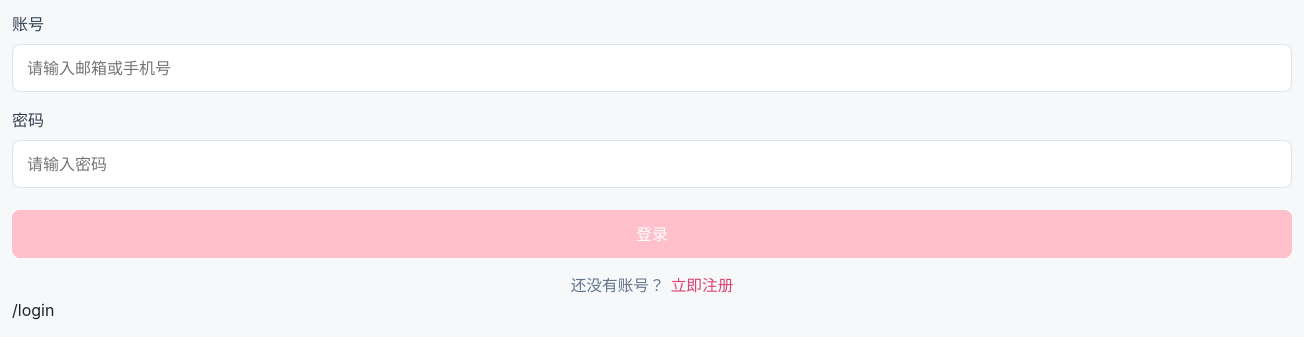
Test: 登录成功后更新认证态并回到原始页面
Step 1. Type "user@example.com" into the field with placeholder "请输入邮箱或手机号" → point(652, 68), box top-left (12, 44), bottom-right (1292, 92)
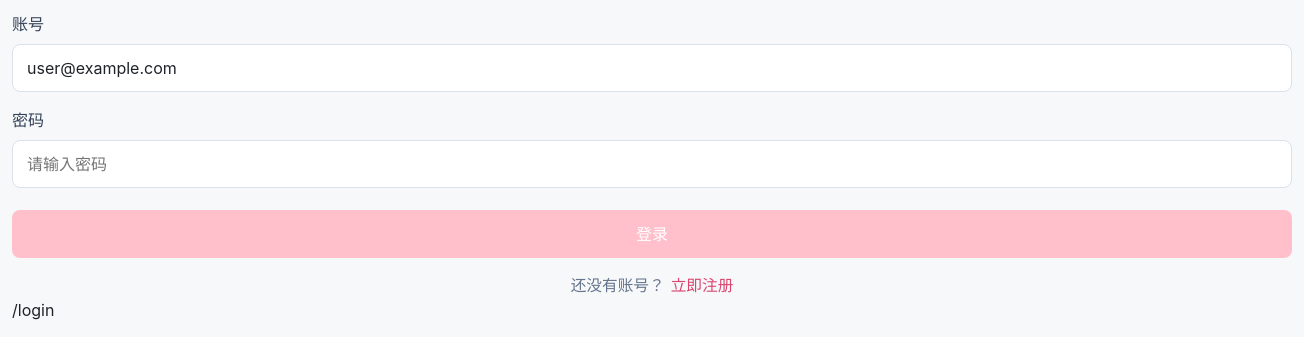
Step 2. Type "password123" into the password field with placeholder "请输入密码" → point(652, 164), box top-left (12, 140), bottom-right (1292, 188)
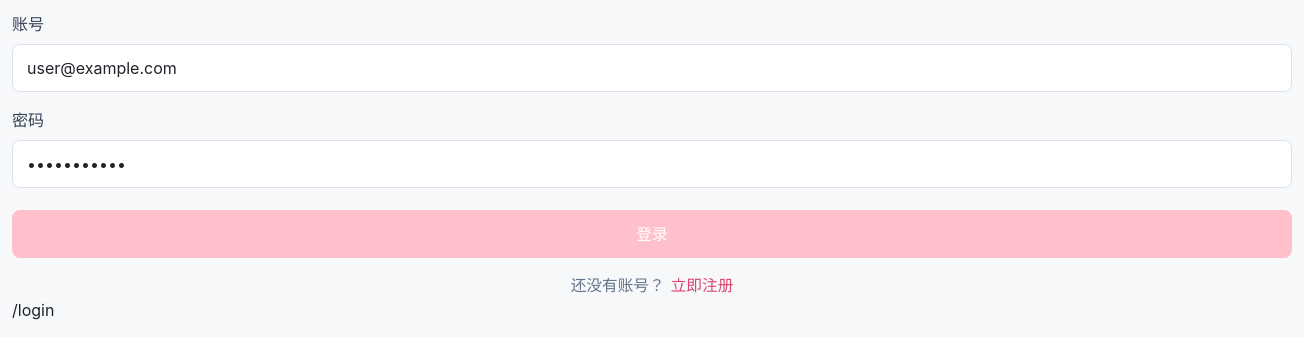
Step 3. Click the button "登录" → point(652, 234), box top-left (12, 210), bottom-right (1292, 258)
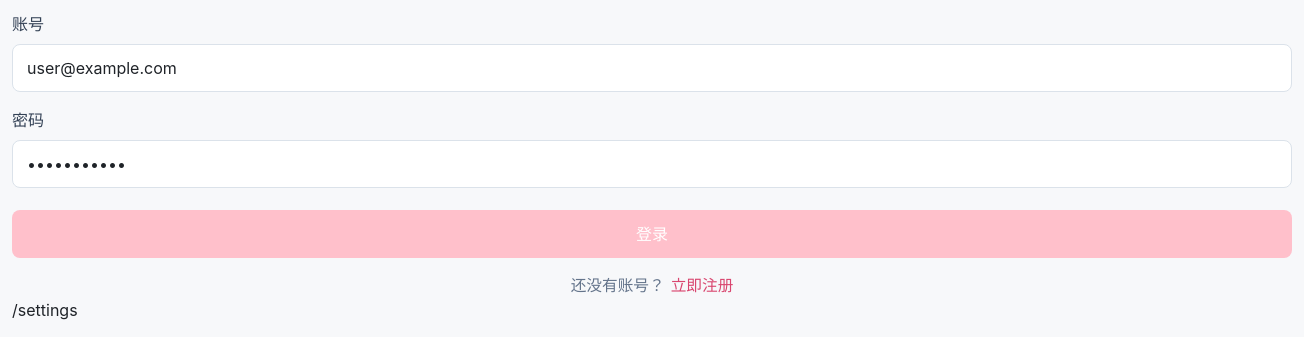
Now the text with test id "location" reads "/settings", box top-left (12, 300), bottom-right (78, 320)
